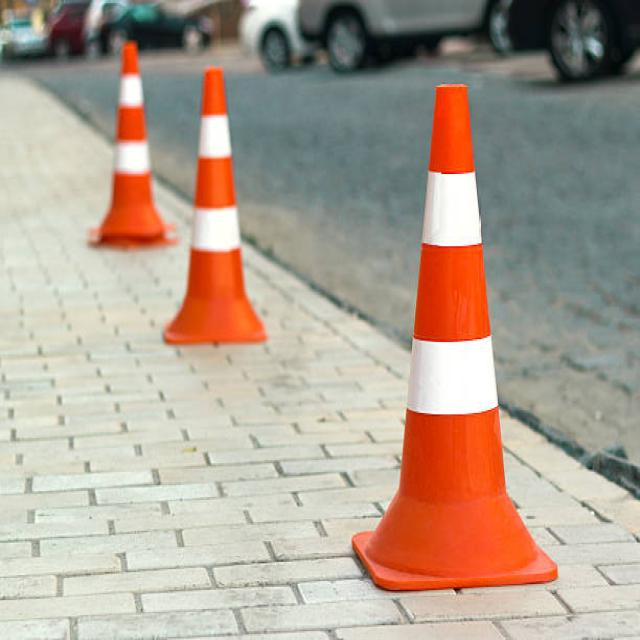Traffic Cone: (319, 59, 582, 612), (153, 46, 284, 387), (67, 20, 184, 282)
